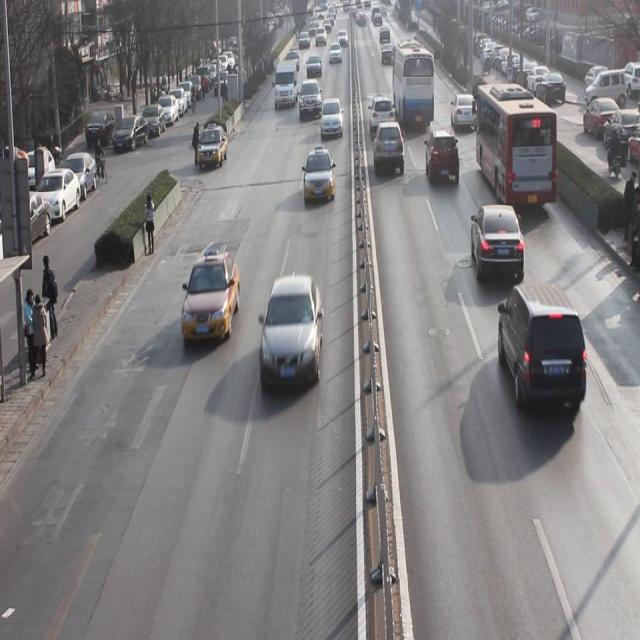car: (497, 280, 590, 420), (260, 277, 324, 390), (184, 250, 242, 354), (471, 199, 527, 285), (425, 126, 461, 184), (304, 143, 335, 207), (372, 119, 407, 174), (198, 124, 230, 165), (319, 96, 344, 141), (370, 94, 396, 137), (449, 88, 476, 129), (298, 76, 322, 118), (306, 54, 322, 75)
truck: (272, 58, 297, 108)
van: (476, 83, 556, 210), (392, 40, 434, 128)
